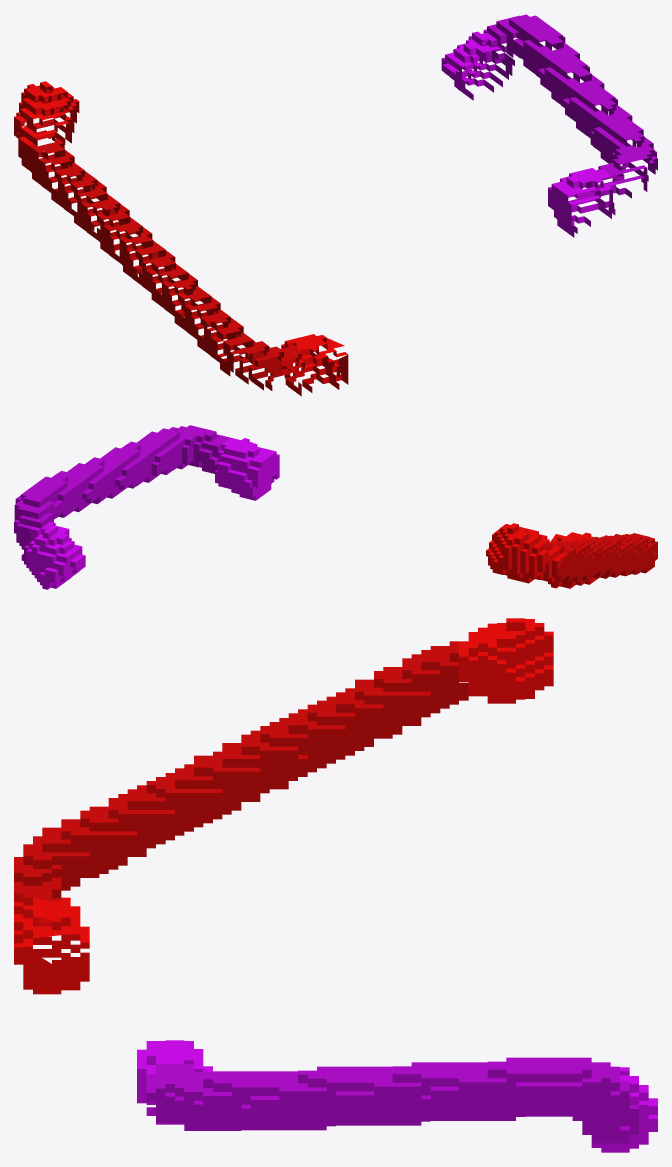
File: cockpit_core_engine_side_pipes_2-2.fbx
The picture shows the model from 3 angles, top to bottom: view 1: azimuth 30°, elevation 25°; view 2: azimuth 150°, elevation 25°; view 3: azimuth 270°, elevation 25°; orthographic projection. The views are drawn at different scales.
Parts seen in each view (by area): view 1: cockpit_core_engine_side_pipes; view 2: cockpit_core_engine_side_pipes; view 3: cockpit_core_engine_side_pipes.
Part boxes in pixels (x1,y1,x2,y2): cockpit_core_engine_side_pipes: (14, 14, 657, 396); cockpit_core_engine_side_pipes: (14, 425, 657, 589); cockpit_core_engine_side_pipes: (14, 618, 657, 1152).
Size of the model in its own units: 820 by 294 by 587.
